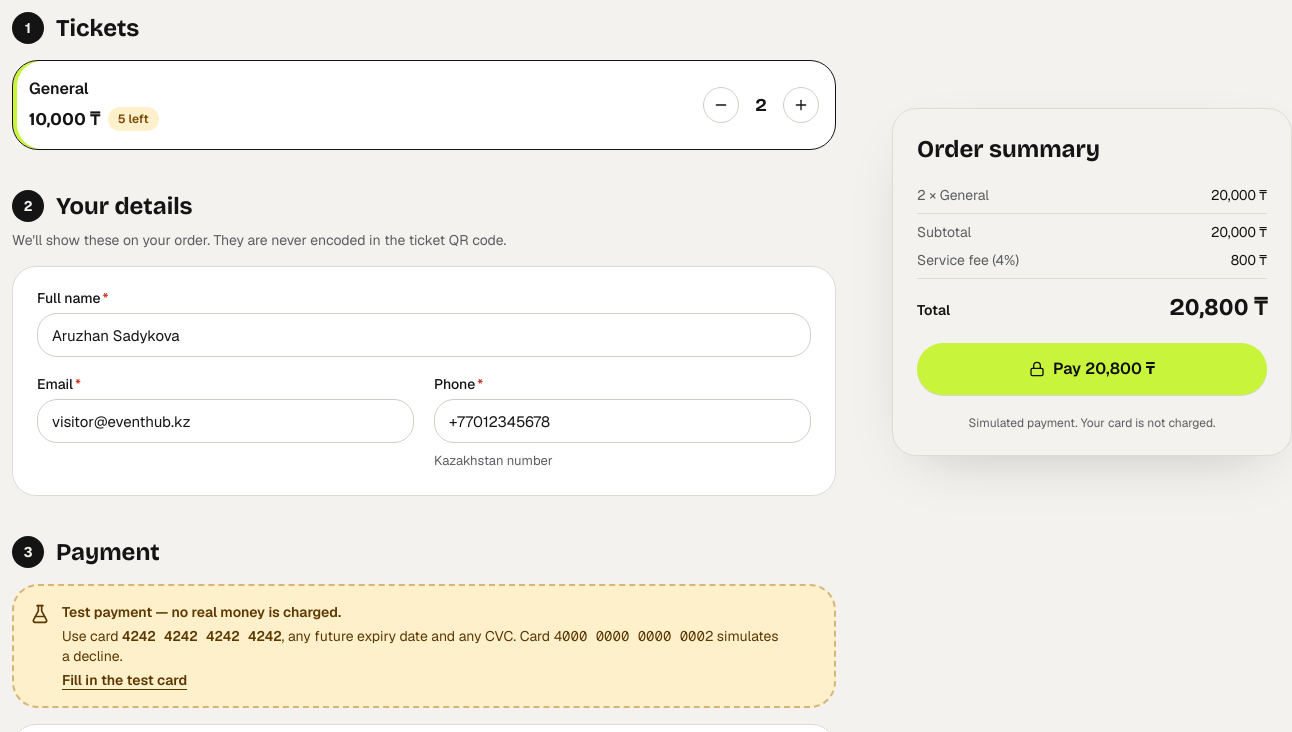
Test: <CheckoutForm /> › shows accessible validation errors and does not submit
Clear the field labelled "Full name*": (424, 335) top-left (37, 313), bottom-right (811, 357)
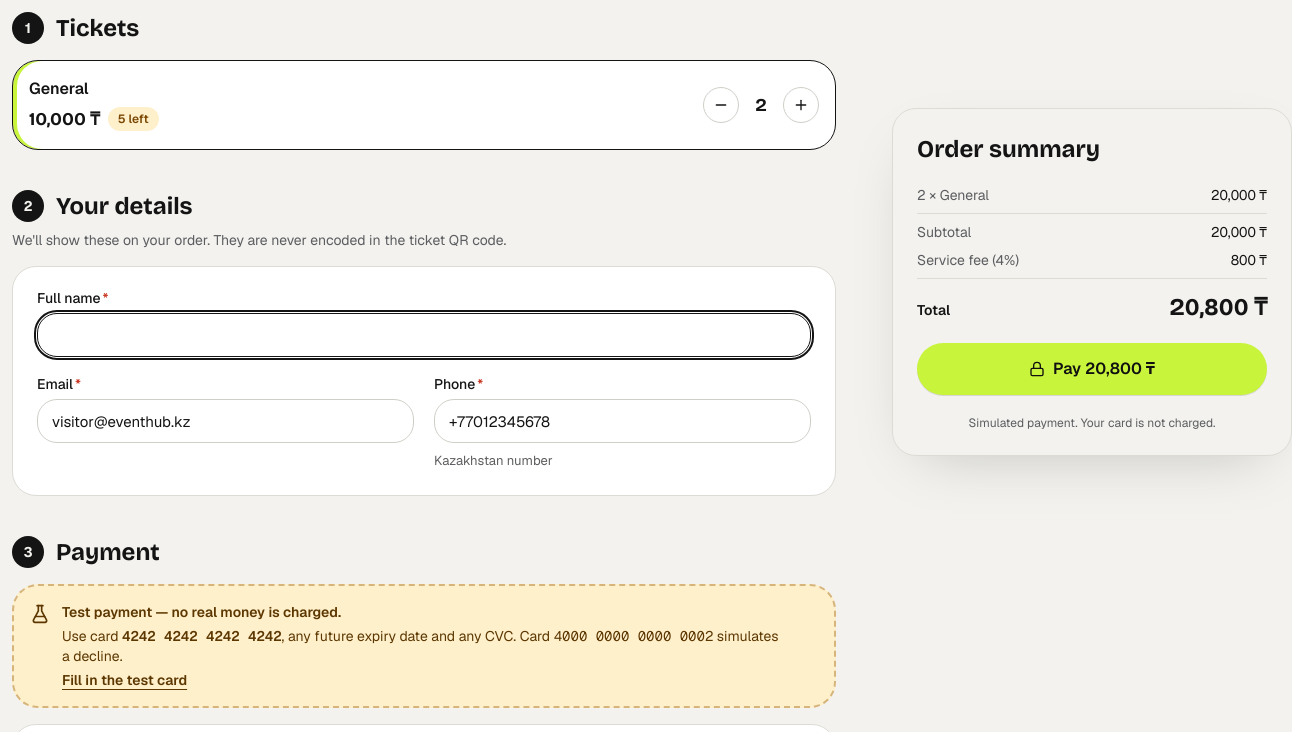
Click the button "Pay 20,800 ₸": (1092, 369) top-left (917, 343), bottom-right (1267, 395)
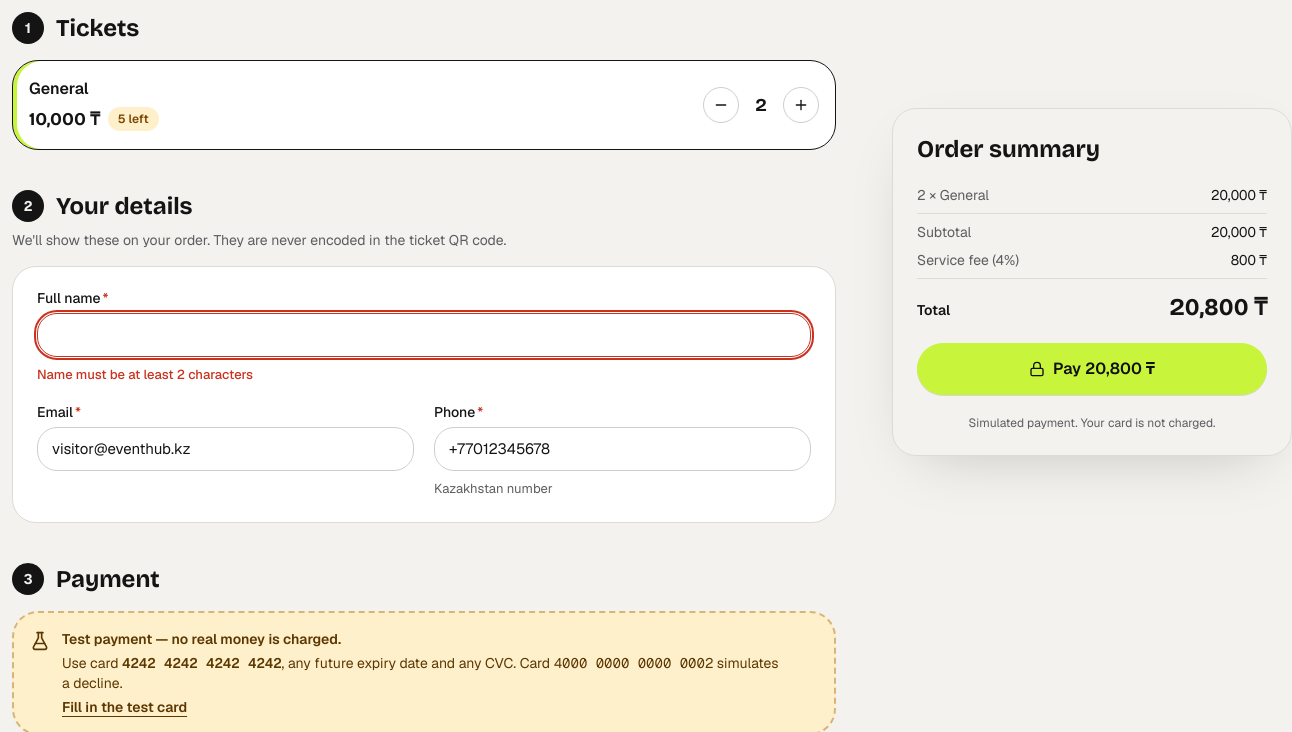
Expected: the text "Name must be at least 2 characters" is shown, top-left (37, 366), bottom-right (253, 383)
